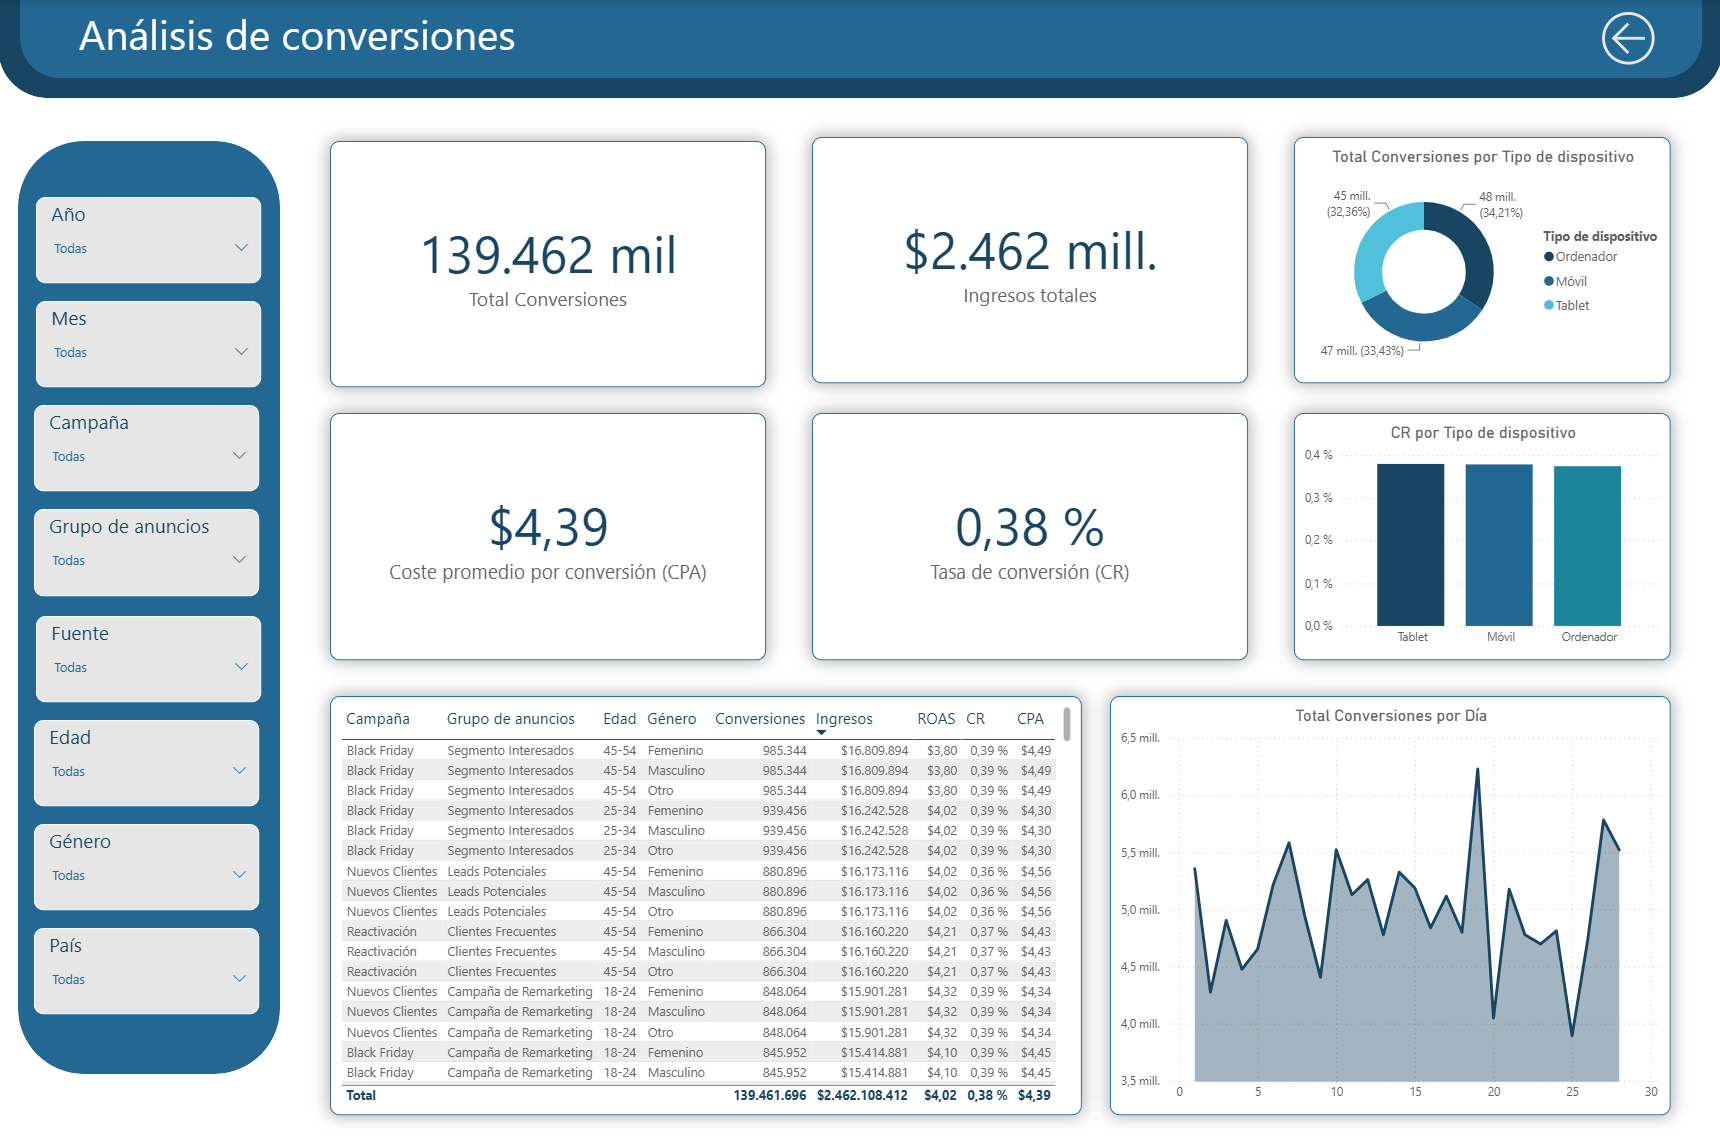

The dashboard page shown, as its layout file describes it:
{"tool":"powerbi","page":{"name":"Análisis de conversiones","canvas":[1800,1200],"ordinal":1},"visuals":[{"type":"shape","box":[0,0,1800,103.4],"z":0},{"type":"shape","box":[22.2,0,1755.7,82.8],"z":1000},{"type":"shape","box":[20.7,147.8,273.4,972.4],"z":2000},{"type":"slicer","fields":{"Values":["Calendario.Nombre del mes"]},"box":[39.9,315.7,235,90.1],"z":3000},{"type":"slicer","fields":{"Values":["Dim_Fuente.Dimensión: Fuente"]},"box":[39.9,641.8,235,90.1],"z":4000},{"type":"slicer","fields":{"Values":["Dim_Campaña.Campaña: Nombre de campaña"]},"box":[38.4,424.5,235,90],"z":5000},{"type":"slicer","fields":{"Values":["Dim_Grupo.Grupo de anuncios"]},"box":[38.4,533.2,235,90],"z":6000},{"type":"slicer","fields":{"Values":["Calendario.Año"]},"box":[39.9,206.9,235,90.1],"z":7000},{"type":"slicer","fields":{"Values":["Dim_Audiencia.Audiencia: Edad"]},"box":[38.4,750.7,235,90],"z":8000},{"type":"slicer","fields":{"Values":["Dim_Audiencia.Audiencia: Género"]},"box":[38.4,859.3,235,90],"z":9000},{"type":"slicer","fields":{"Values":["Dim_Audiencia.Audiencia: País"]},"box":[38.4,968,235,90],"z":10000},{"type":"textbox","box":[79.8,3,638.4,70.9],"z":11000},{"type":"card","title":"Ingresos totales","fields":{"Values":["Medidas.Total Conversiones"]},"box":[347.3,147.8,455.2,257.1],"z":12000},{"type":"card","title":"Ingresos totales","fields":{"Values":["Medidas.Total Ingresos"]},"box":[849.8,144.8,455.2,257.1],"z":13000},{"type":"card","title":"Ingresos totales","fields":{"Values":["Medidas.CPA"]},"box":[347.3,433,455.2,257.1],"z":14000},{"type":"card","title":"Ingresos totales","fields":{"Values":["Medidas.CR"]},"box":[849.8,433,455.2,257.1],"z":15000},{"type":"tableEx","fields":{"Values":["Dim_Campaña.Campaña: Nombre de campaña","Dim_Grupo.Grupo de anuncios","Dim_Audiencia.Audiencia: Edad","Dim_Audiencia.Audiencia: Género","Medidas.Total Conversiones","Medidas.Total Ingresos","Medidas.ROAS","Medidas.CR","Medidas.CPA"]},"box":[347.3,727.1,784.7,437.4],"z":16000},{"type":"areaChart","fields":{"Y":["Medidas.Total Conversiones"],"Category":["Calendario.Date.Variación.Jerarquía de fechas.Día"]},"box":[1160.1,727.1,585.2,437.4],"z":17000},{"type":"donutChart","fields":{"Y":["Medidas.Total Conversiones"],"Category":["Dim_Dispositivo.Audiencia: Tipo de dispositivo"]},"box":[1352.2,144.8,393.1,257.1],"z":18000},{"type":"columnChart","fields":{"Y":["Medidas.CR"],"Category":["Dim_Dispositivo.Audiencia: Tipo de dispositivo"]},"box":[1352.2,433,393.1,257.1],"z":19000},{"type":"actionButton","box":[1631.5,5.9,168.5,69.5],"z":20000}]}

Visuals, with their boxes in screenshot pixels (x1, y1, x2, y2), scaled from the page's 1800x1200 canvas onto the 1720x1148 screenshot:
shape: select_region(0, 0, 1719, 99)
shape: select_region(21, 0, 1699, 79)
shape: select_region(20, 141, 281, 1072)
slicer - Calendario.Nombre del mes: select_region(38, 302, 263, 388)
slicer - Dim_Fuente.Dimensión: Fuente: select_region(38, 614, 263, 700)
slicer - Dim_Campaña.Campaña: Nombre de campaña: select_region(37, 406, 261, 492)
slicer - Dim_Grupo.Grupo de anuncios: select_region(37, 510, 261, 596)
slicer - Calendario.Año: select_region(38, 198, 263, 284)
slicer - Dim_Audiencia.Audiencia: Edad: select_region(37, 718, 261, 804)
slicer - Dim_Audiencia.Audiencia: Género: select_region(37, 822, 261, 908)
slicer - Dim_Audiencia.Audiencia: País: select_region(37, 926, 261, 1012)
textbox: select_region(76, 3, 686, 71)
"Ingresos totales" card: select_region(332, 141, 767, 387)
"Ingresos totales" card: select_region(812, 139, 1247, 384)
"Ingresos totales" card: select_region(332, 414, 767, 660)
"Ingresos totales" card: select_region(812, 414, 1247, 660)
tableEx - Dim_Campaña.Campaña: Nombre de campaña x Dim_Grupo.Grupo de anuncios: select_region(332, 696, 1082, 1114)
areaChart - Medidas.Total Conversiones x Calendario.Date.Variación.Jerarquía de fechas.Día: select_region(1109, 696, 1668, 1114)
donutChart - Medidas.Total Conversiones x Dim_Dispositivo.Audiencia: Tipo de dispositivo: select_region(1292, 139, 1668, 384)
columnChart - Medidas.CR x Dim_Dispositivo.Audiencia: Tipo de dispositivo: select_region(1292, 414, 1668, 660)
actionButton: select_region(1559, 6, 1719, 72)
